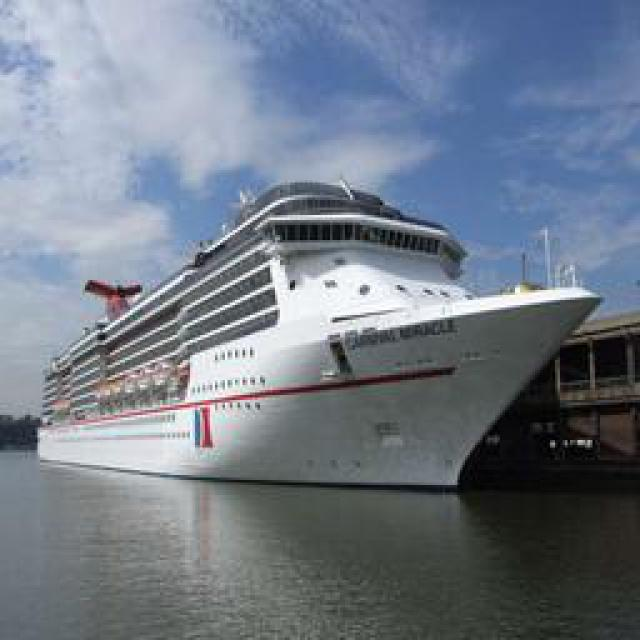Ship: (36, 178, 609, 486)
